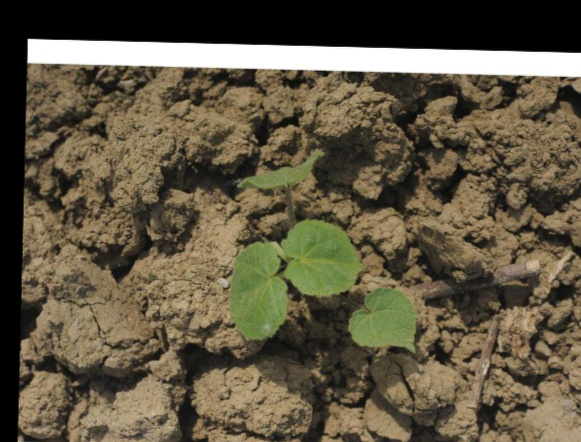velvet: (229, 155, 418, 354)
